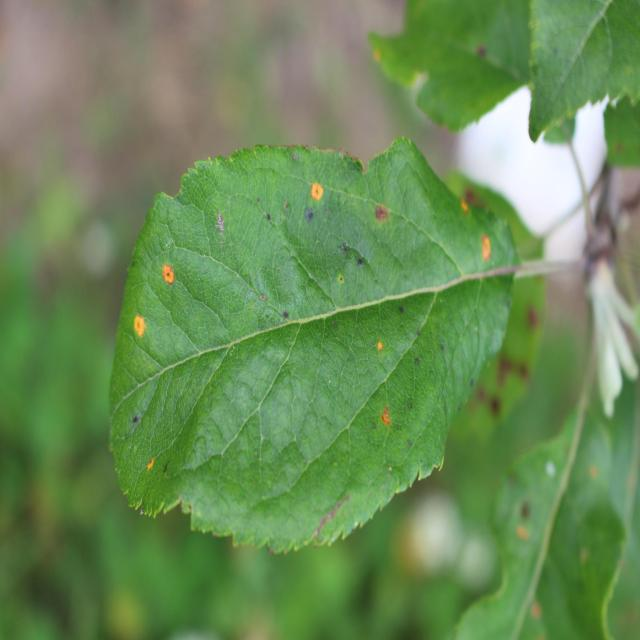Rust: (147, 236, 189, 319), (126, 306, 166, 363), (305, 167, 331, 233), (363, 200, 398, 247), (464, 230, 501, 270), (358, 330, 397, 363), (371, 395, 395, 443), (134, 454, 164, 482)
